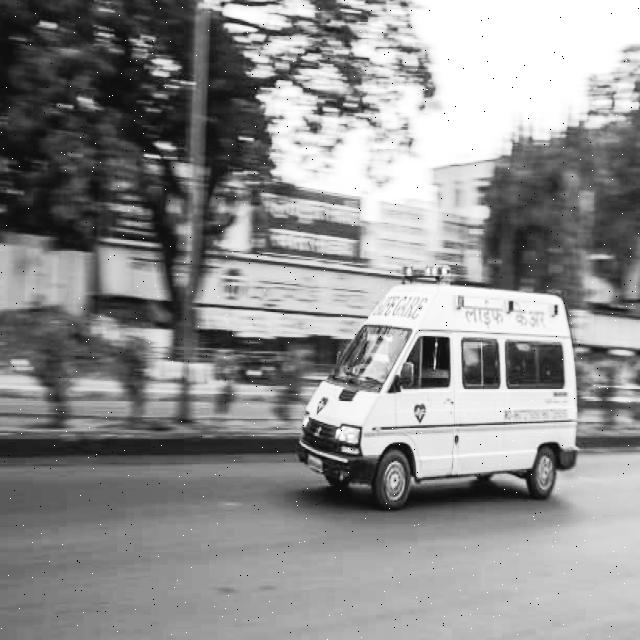Ambulance: (451, 295, 563, 340), (354, 320, 414, 347), (503, 406, 573, 429), (397, 261, 453, 285), (410, 401, 432, 424), (314, 396, 331, 420)
